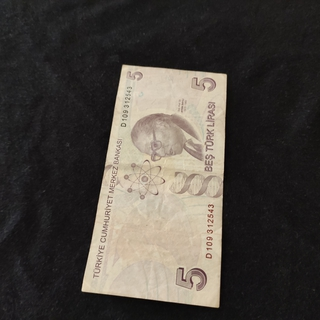5TLBack: (81, 63, 227, 309)
